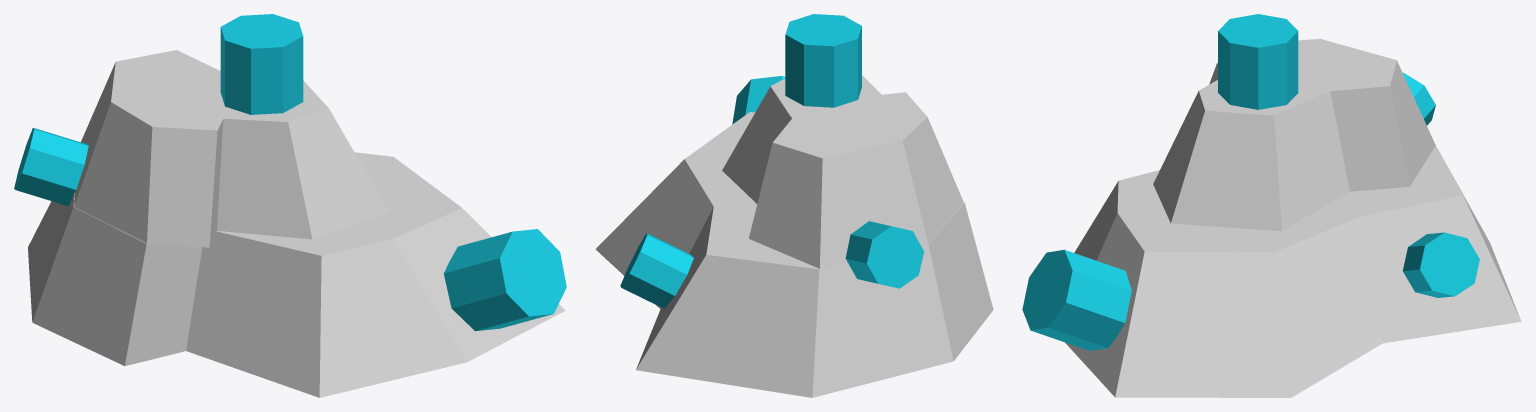
Rendered from Diamante_Tipo1.fbx.
3 renders of one model, left to right at view 1: azimuth 30°, elevation 25°; view 2: azimuth 150°, elevation 25°; view 3: azimuth 270°, elevation 25°, orthographic. The views are drawn at different scales.
Parts seen in each view (by area): view 1: base.003, Cylinder.010, diamante, Cylinder.012; view 2: base.003, diamante, Cylinder.012, Cylinder.011, Cylinder.010; view 3: base.003, Cylinder.010, diamante, Cylinder.011, Cylinder.012.
Boxes of the visible parts, x1,y1,x2,y2 form: base.003: (28, 50, 565, 397); Cylinder.010: (443, 229, 566, 331); diamante: (220, 14, 303, 114); Cylinder.012: (14, 127, 88, 206); base.003: (595, 75, 993, 397); diamante: (785, 14, 861, 107); Cylinder.012: (845, 221, 924, 288); Cylinder.011: (620, 233, 693, 308); Cylinder.010: (732, 76, 785, 124); base.003: (1065, 39, 1521, 397); Cylinder.010: (1022, 249, 1131, 350); diamante: (1218, 14, 1298, 109); Cylinder.011: (1403, 232, 1479, 297); Cylinder.012: (1403, 72, 1435, 125).
Bounding box in the file's own units: 133 × 85.5 × 148.
